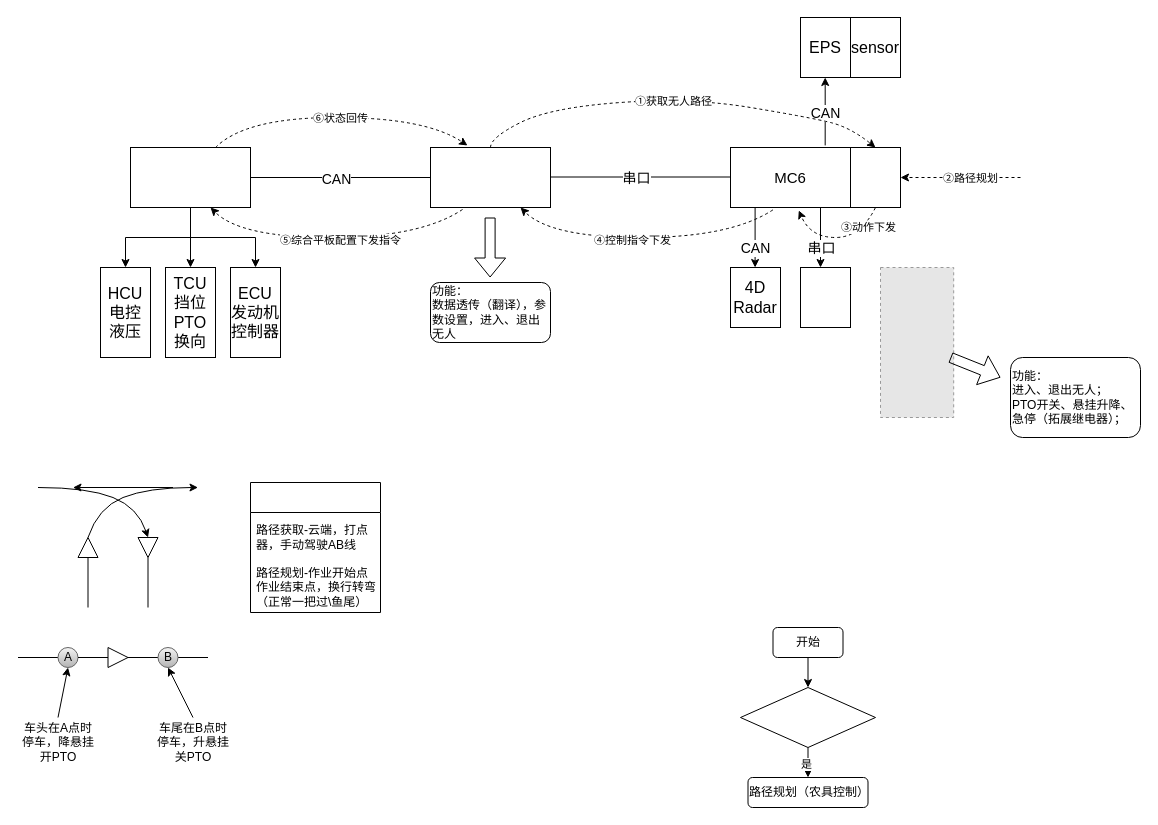
Image size: 1158x825. Some labels were removed from this diagram. Grey dashed boxes stand in for pictures. Each missing label, with the box of its shape:
VCU 整车控制器: (130, 146, 250, 208)
无人路径: (250, 482, 380, 612)
是否存在无人路径: (740, 686, 876, 748)
显屏: (430, 146, 550, 208)
算法: (850, 146, 900, 208)
遥控器: (800, 266, 850, 328)
